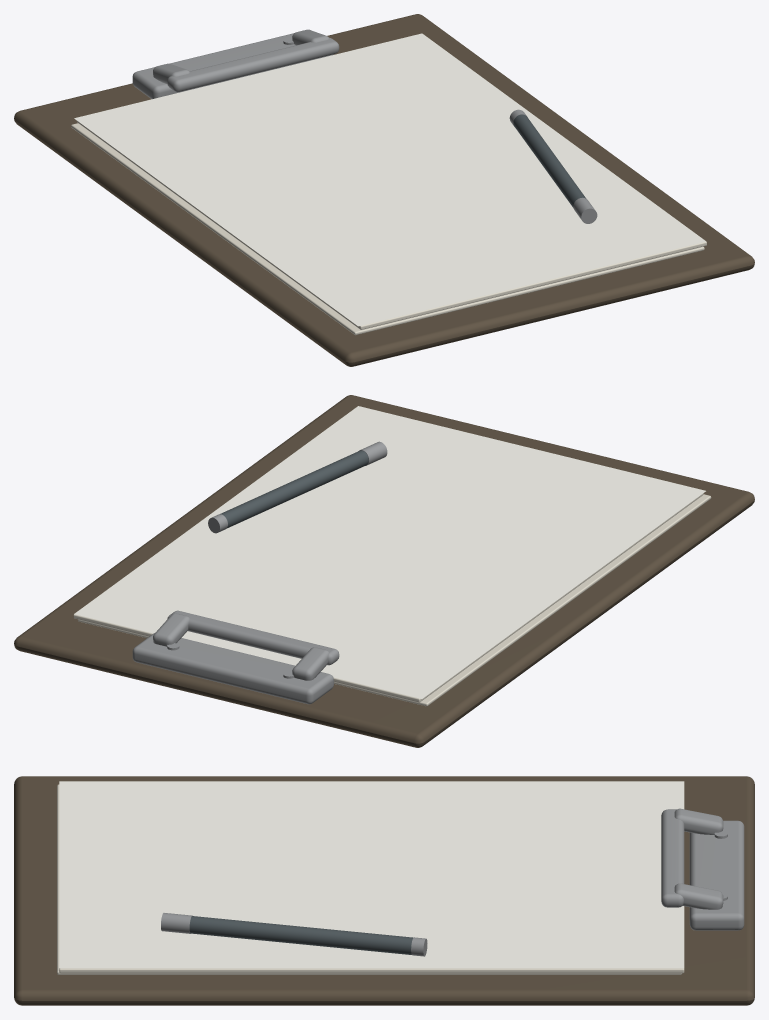
The model's file is Research clipboard.fbx.
3 views of the same model, one above another, from view 1: azimuth 30°, elevation 25°; view 2: azimuth 150°, elevation 25°; view 3: azimuth 270°, elevation 25° (orthographic). The views are drawn at different scales.
Visible parts, largest first — view 1: Printed report, Fiberboard, Bottom pages, Clamp bar, Clip base, Report stack, Pen barrel; view 2: Printed report, Fiberboard, Clip base, Bottom pages, Pen barrel, Clamp bar, Report stack, Clamp hinge, Clamp hinge.001; view 3: Printed report, Fiberboard, Clip base, Pen barrel, Report stack, Clamp bar, Bottom pages, Clamp hinge.001, Clamp hinge, Pen cap.
Part boxes in pixels (x1,y1,x2,y2): Printed report: (74, 33, 706, 326); Fiberboard: (14, 14, 754, 366); Bottom pages: (71, 123, 704, 335); Clamp bar: (167, 37, 339, 92); Clip base: (132, 29, 333, 99); Report stack: (77, 121, 706, 329); Pen barrel: (513, 114, 586, 207); Printed report: (74, 406, 705, 698); Fiberboard: (14, 395, 754, 747); Clip base: (132, 633, 333, 704); Bottom pages: (78, 494, 711, 706); Pen barrel: (220, 450, 368, 528); Clamp bar: (167, 610, 339, 665); Report stack: (73, 493, 703, 702); Clamp hinge: (292, 647, 329, 680); Clamp hinge.001: (153, 613, 189, 646); Printed report: (59, 781, 684, 968); Fiberboard: (14, 776, 754, 1005); Clip base: (689, 820, 744, 930); Pen barrel: (189, 916, 412, 954); Report stack: (59, 968, 684, 973); Clamp bar: (661, 809, 684, 907); Bottom pages: (57, 784, 682, 974); Clamp hinge.001: (674, 883, 723, 909); Clamp hinge: (674, 808, 723, 834); Pen cap: (161, 913, 192, 933).
Bounding box in the file's own units: 24.7 × 2.58 × 35.2.
